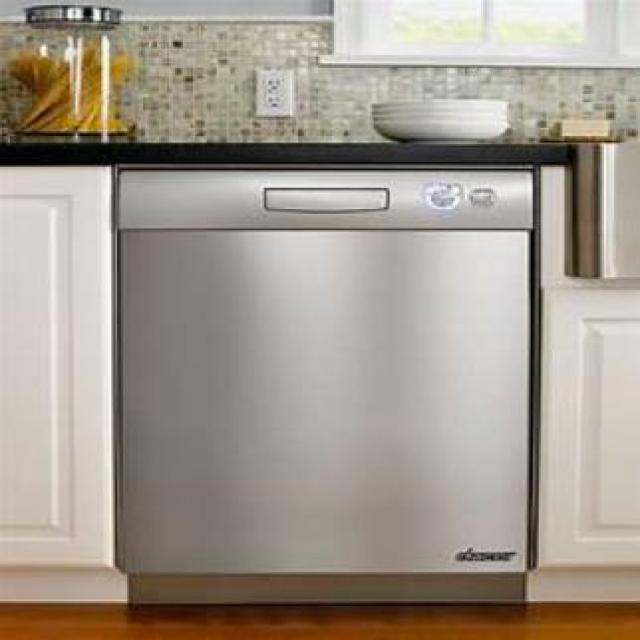dishwasher: (111, 162, 529, 603)
